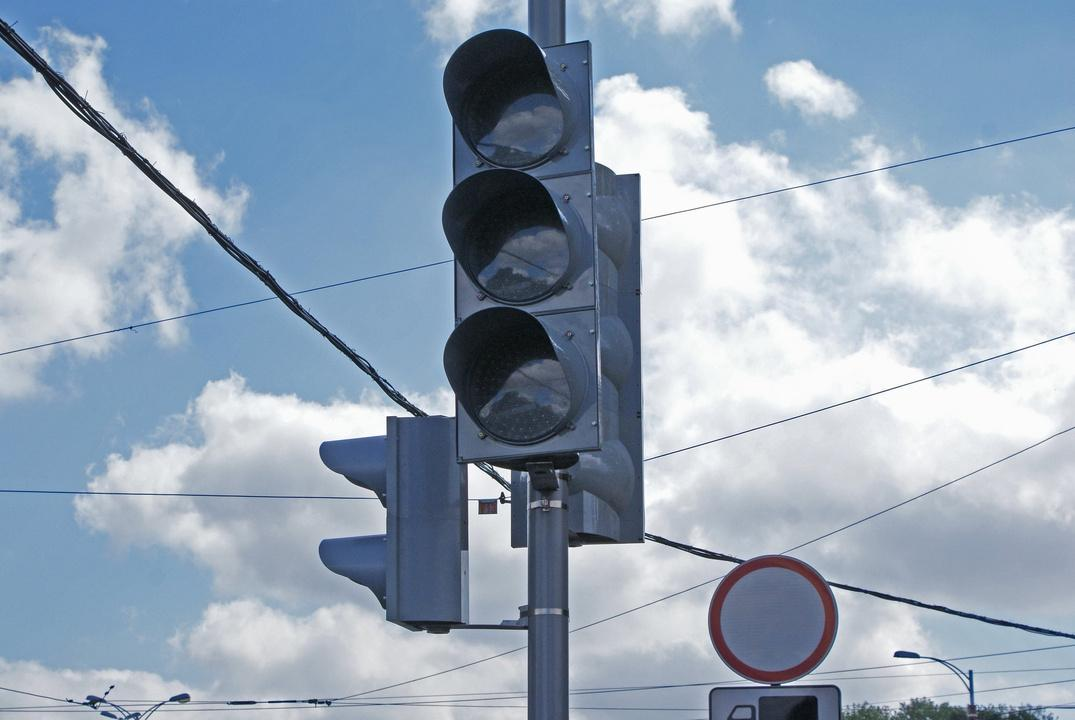obstructed_road_sign: (708, 685, 842, 720)
off traffic light: (443, 30, 600, 463), (319, 416, 467, 633)
road_sign: (708, 555, 837, 682)
